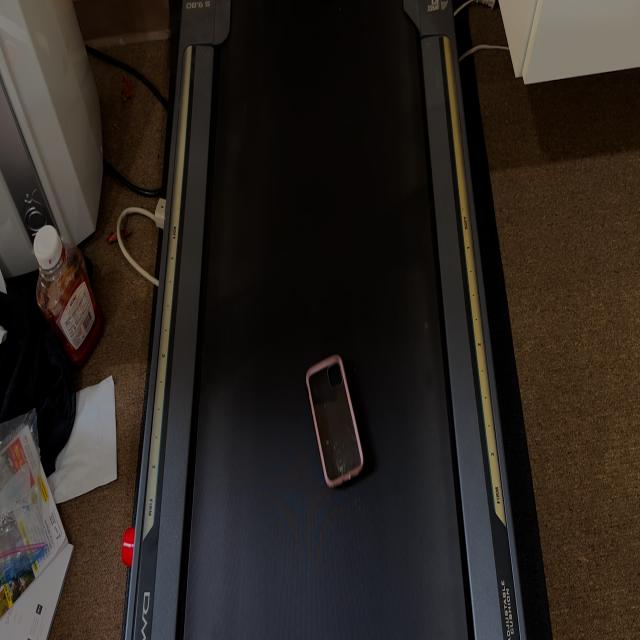Trash: (304, 354, 364, 485)
